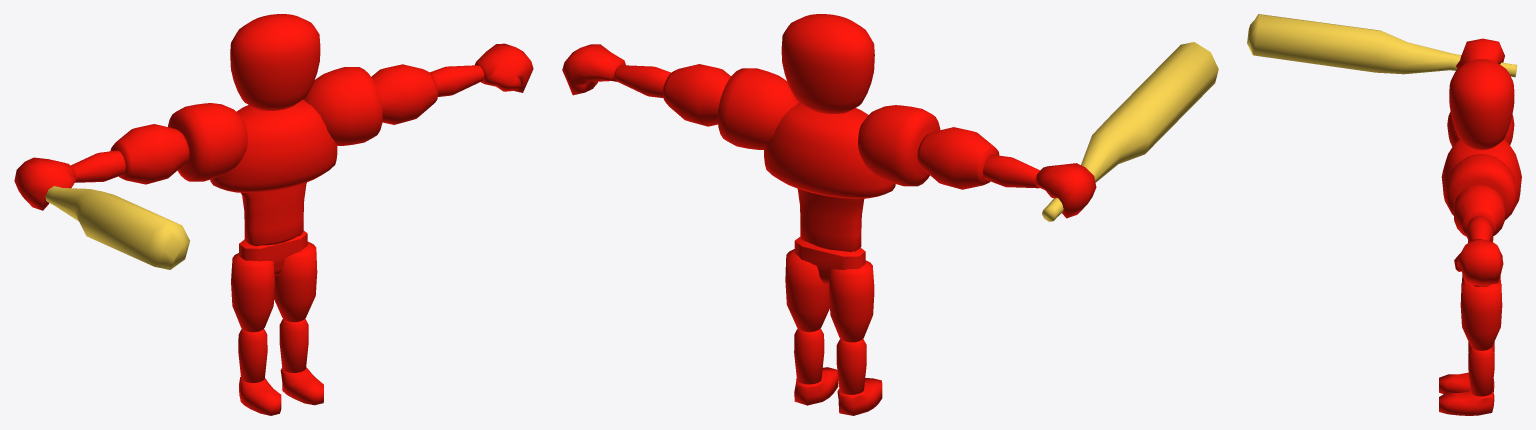
The model's file is Stickman_Big.fbx.
3 renders of one model, left to right at view 1: azimuth 30°, elevation 25°; view 2: azimuth 150°, elevation 25°; view 3: azimuth 270°, elevation 25°, orthographic. The views are drawn at different scales.
Parts seen in each view (by area): view 1: Chest, Head, Circle, Shoulder1_Right_1, Shoulder1_Right, Shoulder2_Right_1, Lower_back, Shoulder2_Right, Hip_Right_1, Hip_Right, Hand_Right003, Hand_Right (+7 smaller); view 2: Circle, Chest, Head, Shoulder1_Right_1, Shoulder1_Right, Shoulder2_Right_1, Lower_back, Shoulder2_Right, Hip_Right_1, Hip_Right, Hand_Right003, Hand_Right (+7 smaller); view 3: Circle, Head, Shoulder1_Right, Hip_Right, Shoulder2_Right, Hand_Right, Chest, foot_left, Tibia_Right, Hand_Right003, foot_right, Forearm_Right (+1 smaller).
Part boxes in pixels (box(x1,y1,x2,y2)): Chest: box(210, 99, 337, 192); Head: box(230, 14, 320, 110); Circle: box(45, 186, 189, 269); Shoulder1_Right_1: box(168, 103, 247, 181); Shoulder1_Right: box(303, 67, 382, 145); Shoulder2_Right_1: box(110, 124, 189, 184); Lower_back: box(241, 182, 306, 246); Shoulder2_Right: box(371, 64, 437, 124); Hip_Right_1: box(231, 253, 274, 332); Hip_Right: box(274, 241, 317, 322); Hand_Right003: box(14, 157, 76, 210); Hand_Right: box(475, 43, 533, 92); Circle: box(1042, 42, 1218, 221); Chest: box(764, 102, 895, 198); Head: box(781, 14, 874, 113); Shoulder1_Right_1: box(858, 105, 940, 186); Shoulder1_Right: box(717, 68, 799, 149); Shoulder2_Right_1: box(917, 127, 999, 189); Lower_back: box(797, 189, 864, 251); Shoulder2_Right: box(662, 64, 730, 126); Hip_Right_1: box(829, 260, 874, 342); Hip_Right: box(785, 249, 829, 332); Hand_Right003: box(1034, 163, 1096, 218); Hand_Right: box(562, 44, 625, 95); Circle: box(1247, 14, 1517, 77); Head: box(1449, 59, 1514, 150); Shoulder1_Right: box(1446, 154, 1516, 219); Hip_Right: box(1460, 281, 1502, 350); Shoulder2_Right: box(1453, 184, 1505, 236); Hand_Right: box(1454, 238, 1503, 286); Chest: box(1441, 139, 1521, 219); foot_left: box(1439, 391, 1494, 415); Tibia_Right: box(1468, 348, 1494, 396); Hand_Right003: box(1456, 38, 1504, 68); foot_right: box(1439, 372, 1494, 394); Forearm_Right: box(1466, 215, 1492, 241).
Bounding box in the file's own units: 274 × 194 × 144.
